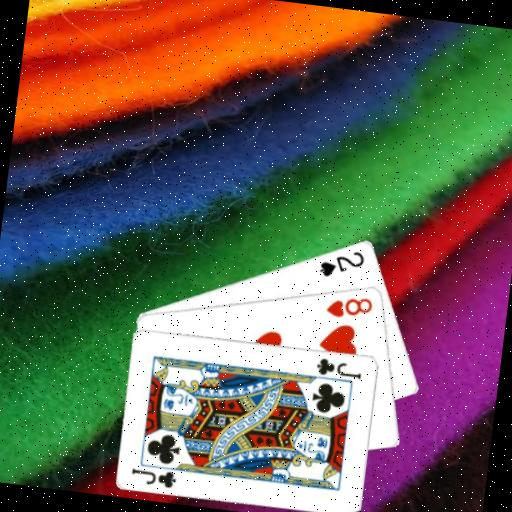2S: (316, 243, 367, 283)
8H: (322, 289, 375, 322)
JC: (313, 354, 365, 381), (128, 464, 179, 491)
